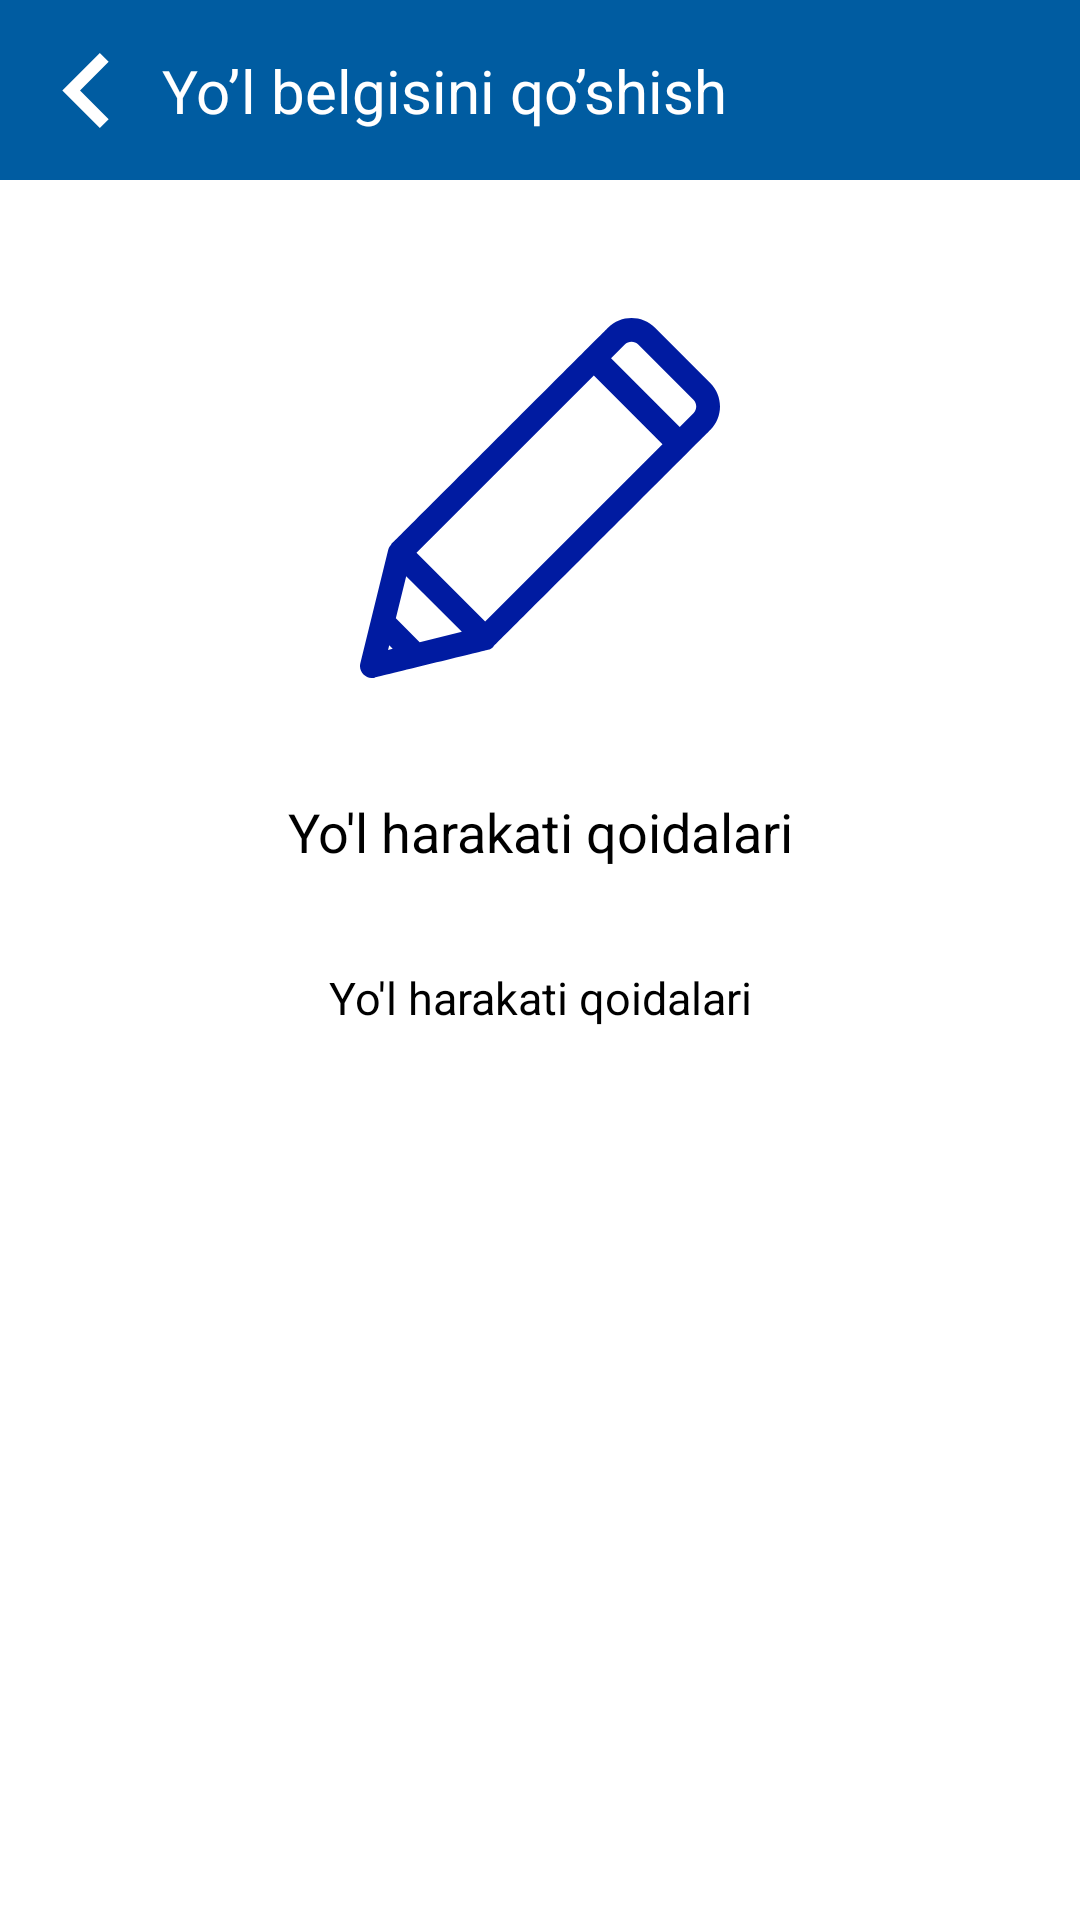

Icons on this 1080*1920 Android screen, each with its box as rect(x1, y1, x2, y2):
pencil: rect(360, 318, 720, 678)
